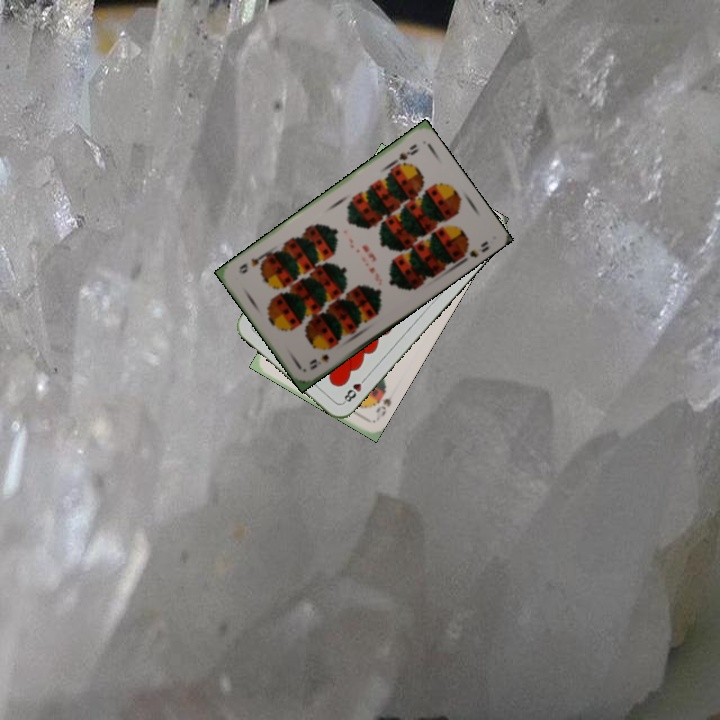H8: (339, 372, 370, 406)
S9: (387, 140, 420, 169), (305, 350, 332, 373)
SO: (370, 383, 398, 419)
